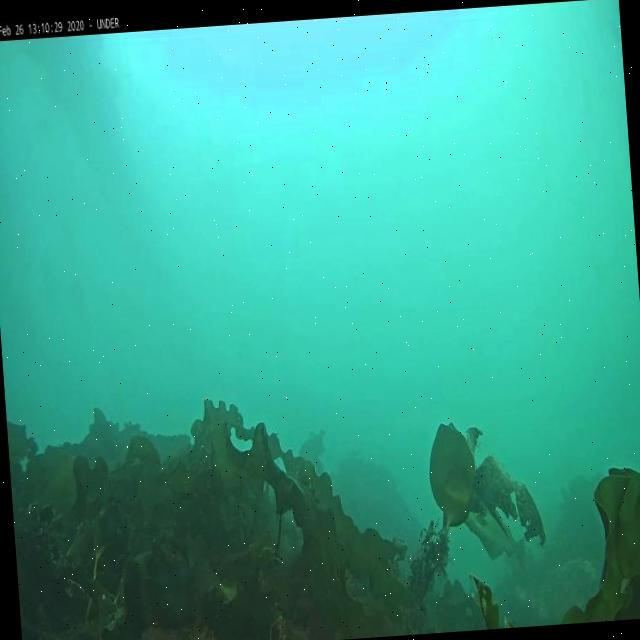fish: (464, 508, 526, 568)
